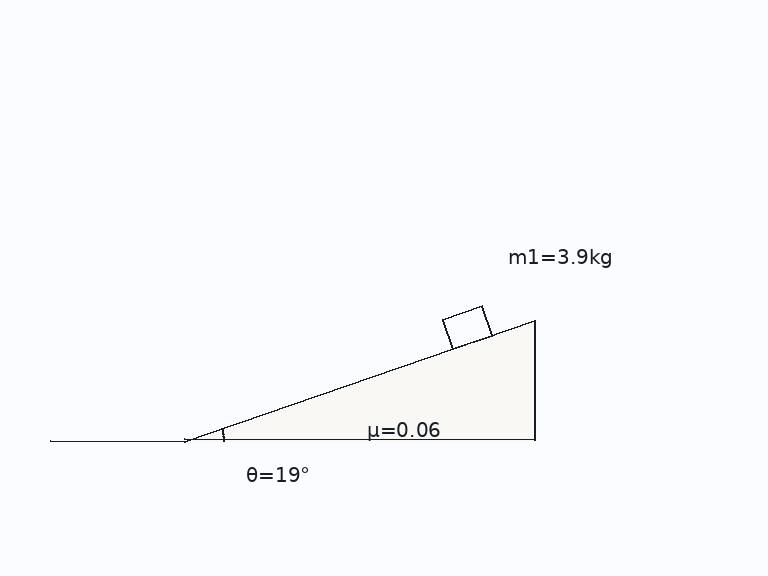block: (441, 304, 494, 351)
ramp: (182, 319, 536, 443)
